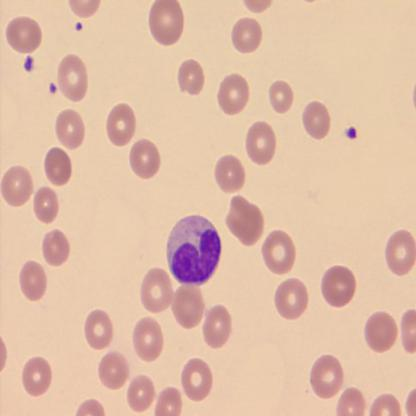Band Neutrophil: (164, 211, 224, 288)
